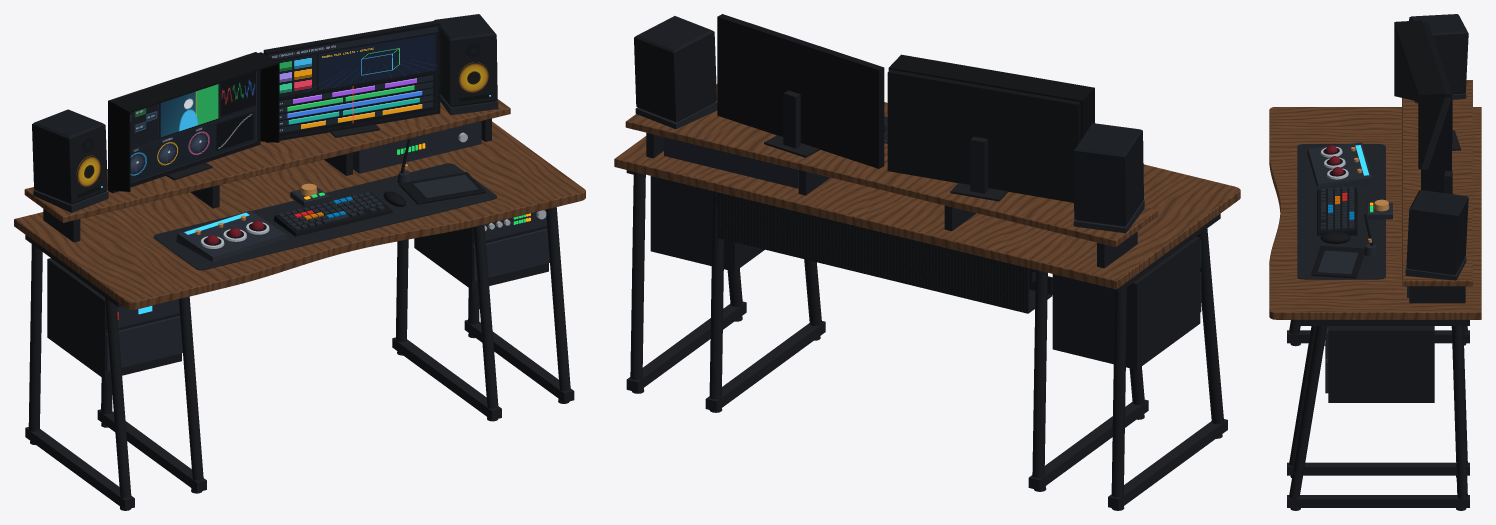
File: Office_Studio_Production_Desk.glb
3 renders of one model, left to right at view 1: azimuth 30°, elevation 25°; view 2: azimuth 150°, elevation 25°; view 3: azimuth 270°, elevation 25°, orthographic. The views are drawn at different scales.
Visible parts, largest first — view 1: Walnut_Ergonomic_Desktop, Steel_AFrame_Rack_Pedestals, Monitor_Panel_Timeline_R, Monitor_Bridge_Shelf, Monitor_Panel_ColorGrade_L, Studio_Desk_Mat, Color_Calibration_Hood, Speaker_Cabinet_L, Speaker_Cabinet_R, Desktop_19in_Audio_Unit, RackL_RAID_Storage, RackR_Broadcast_Deck (+12 smaller); view 2: Steel_AFrame_Rack_Pedestals, Walnut_Ergonomic_Desktop, Monitor_Casing_ColorGrade_L, Monitor_Casing_Timeline_R, Perforated_Modesty_Back, Monitor_Bridge_Shelf, Speaker_Cabinet_R, Speaker_Cabinet_L, Color_Calibration_Hood, Desktop_19in_Audio_Unit, Stand_Column_ColorGrade_L, Stand_Column_Timeline_R (+1 smaller); view 3: Steel_AFrame_Rack_Pedestals, Walnut_Ergonomic_Desktop, Studio_Desk_Mat, Monitor_Bridge_Shelf, Speaker_Cabinet_R, Color_Calibration_Hood, Speaker_Cabinet_L, Monitor_Casing_Timeline_R, ColorPanel_Chassis, Keycaps_Standard, Bridge_Riser_3, Keyboard_Anodized_Case (+6 smaller).
Boxes of the visible parts, x1,y1,x2,y2 form: Walnut_Ergonomic_Desktop: [14, 121, 585, 309]; Steel_AFrame_Rack_Pedestals: [25, 207, 574, 509]; Monitor_Panel_Timeline_R: [269, 26, 437, 138]; Monitor_Bridge_Shelf: [24, 99, 510, 222]; Monitor_Panel_ColorGrade_L: [130, 71, 258, 184]; Studio_Desk_Mat: [153, 163, 496, 270]; Color_Calibration_Hood: [110, 52, 279, 191]; Speaker_Cabinet_L: [32, 109, 107, 204]; Speaker_Cabinet_R: [434, 14, 497, 106]; Desktop_19in_Audio_Unit: [353, 121, 481, 173]; RackL_RAID_Storage: [105, 316, 182, 371]; RackR_Broadcast_Deck: [472, 228, 549, 281]; Steel_AFrame_Rack_Pedestals: [626, 170, 1227, 509]; Walnut_Ergonomic_Desktop: [614, 84, 1240, 289]; Monitor_Casing_ColorGrade_L: [887, 69, 1080, 202]; Monitor_Casing_Timeline_R: [717, 14, 884, 168]; Perforated_Modesty_Back: [717, 192, 1028, 313]; Monitor_Bridge_Shelf: [625, 110, 1158, 246]; Speaker_Cabinet_R: [634, 16, 716, 122]; Speaker_Cabinet_L: [1073, 123, 1143, 226]; Color_Calibration_Hood: [888, 54, 1094, 138]; Desktop_19in_Audio_Unit: [664, 137, 798, 188]; Stand_Column_ColorGrade_L: [970, 136, 987, 193]; Stand_Column_Timeline_R: [783, 90, 800, 148]; Steel_AFrame_Rack_Pedestals: [1287, 320, 1469, 507]; Walnut_Ergonomic_Desktop: [1269, 107, 1481, 319]; Studio_Desk_Mat: [1297, 144, 1385, 279]; Monitor_Bridge_Shelf: [1402, 80, 1472, 286]; Speaker_Cabinet_R: [1406, 190, 1468, 275]; Color_Calibration_Hood: [1394, 20, 1446, 169]; Speaker_Cabinet_L: [1409, 14, 1468, 94]; Monitor_Casing_Timeline_R: [1421, 97, 1451, 192]; ColorPanel_Chassis: [1307, 142, 1372, 188]; Keycaps_Standard: [1321, 186, 1354, 230]; Bridge_Riser_3: [1409, 286, 1465, 303]; Keyboard_Anodized_Case: [1317, 187, 1357, 235].
Size of the model in its own units: 1.65 by 1.18 by 0.72.
22 materials, 5 textured.
